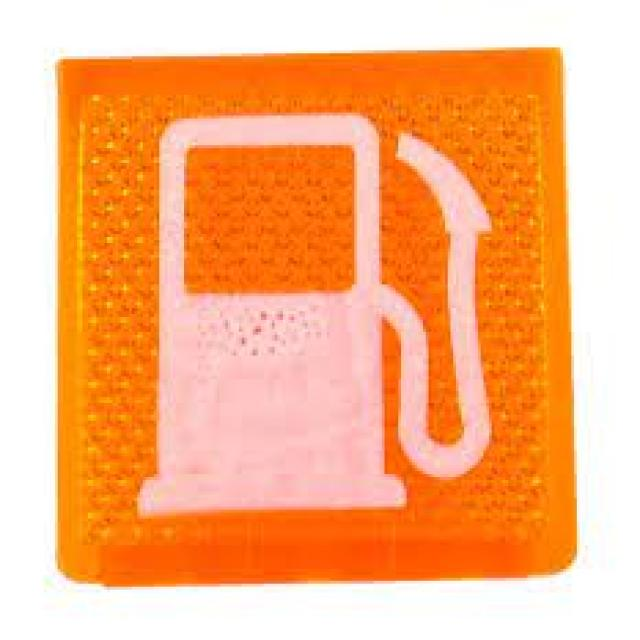kontrolka: (123, 109, 519, 530)
